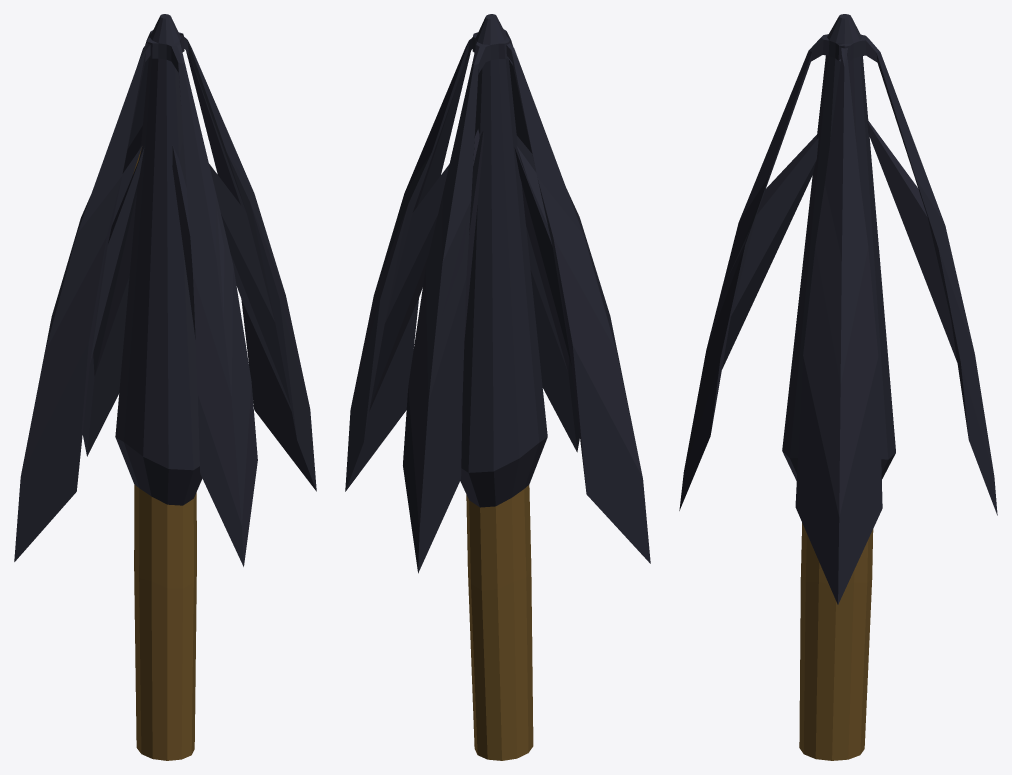
File: Partes.fbx
3 views of the same model, side by side, from view 1: azimuth 30°, elevation 25°; view 2: azimuth 150°, elevation 25°; view 3: azimuth 270°, elevation 25° (orthographic).
Parts seen in each view (by area): view 1: flecha.001; view 2: flecha.001; view 3: flecha.001.
Part boxes in pixels (<box>): flecha.001: <box>14,14,316,760</box>; flecha.001: <box>345,14,650,760</box>; flecha.001: <box>679,14,997,760</box>.
Size of the model in its own units: 187 by 429 by 168.
